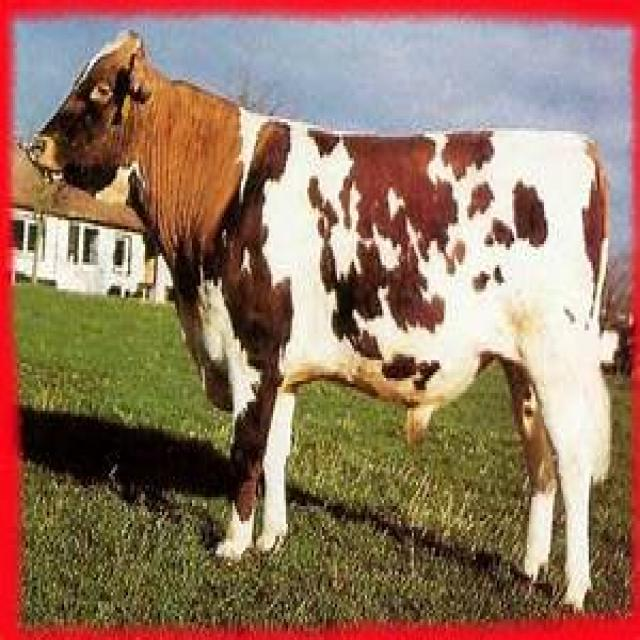cow: (21, 33, 614, 607)
